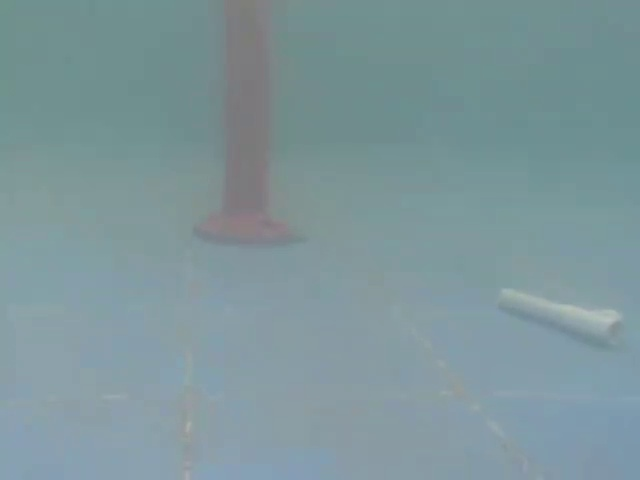flare: (182, 0, 300, 266)
